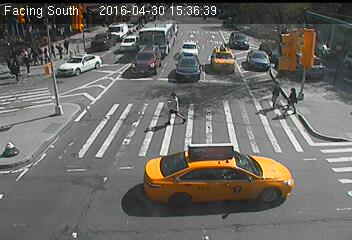pos: (161, 93, 187, 128), (282, 87, 304, 117), (267, 79, 288, 107)
